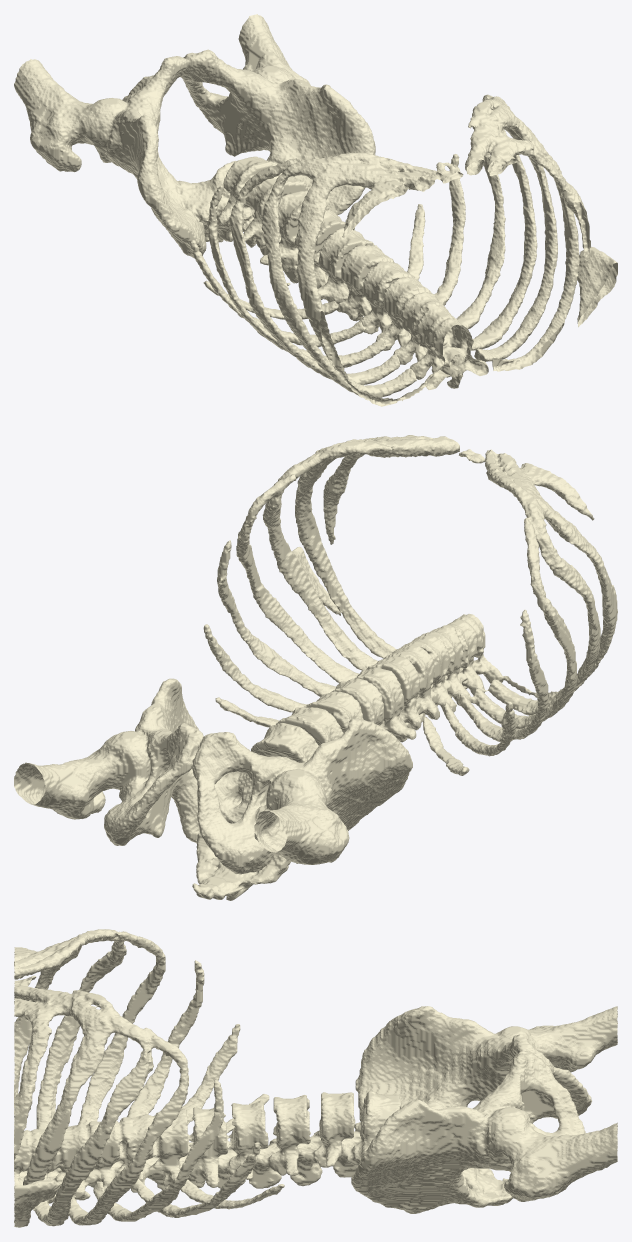
The model's file is bones.glb.
The picture shows the model from 3 angles, top to bottom: view 1: azimuth 30°, elevation 25°; view 2: azimuth 150°, elevation 25°; view 3: azimuth 270°, elevation 25°; orthographic projection. The views are drawn at different scales.
Parts seen in each view (by area): view 1: bones.stl; view 2: bones.stl; view 3: bones.stl.
Part boxes in pixels (x1,y1,x2,y2): bones.stl: (14, 14, 617, 406); bones.stl: (14, 435, 617, 900); bones.stl: (14, 929, 617, 1227).
Size of the model in its own units: 324 by 246 by 546.
